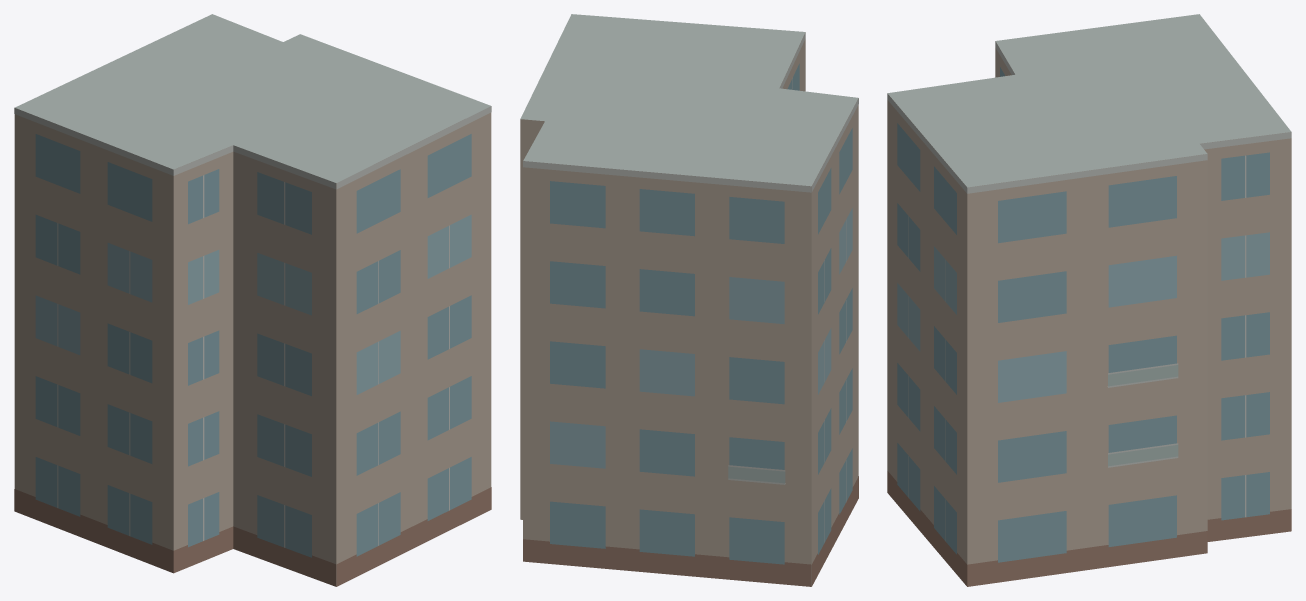
Rendered from survey-upis-32967695.glb.
3 views of the same model, side by side, from view 1: azimuth 30°, elevation 25°; view 2: azimuth 150°, elevation 25°; view 3: azimuth 270°, elevation 25° (orthographic).
Visible parts, largest first — view 1: survey-upis-32967695.tmp; view 2: survey-upis-32967695.tmp; view 3: survey-upis-32967695.tmp.
Part boxes in pixels (left/top/right/bottom): survey-upis-32967695.tmp: left=14, top=14, right=491, bottom=586; survey-upis-32967695.tmp: left=520, top=14, right=858, bottom=586; survey-upis-32967695.tmp: left=887, top=14, right=1291, bottom=586.
Bounding box in the file's own units: 14.36 × 15.4 × 14.14.
